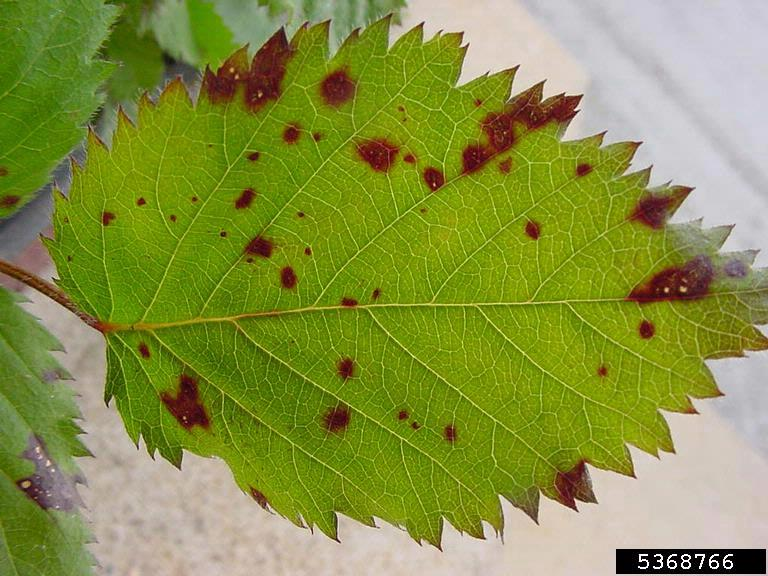unhealthy: (56, 37, 707, 511)
